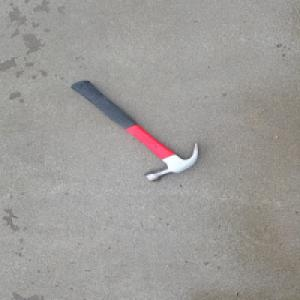Hammer: (65, 79, 197, 182)
